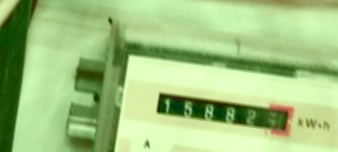1: (159, 95, 170, 112)
2: (242, 106, 255, 124)
5: (180, 98, 192, 115)
7: (264, 116, 275, 128)
8: (222, 104, 234, 122), (201, 102, 213, 119)
screen: (146, 81, 298, 141)
